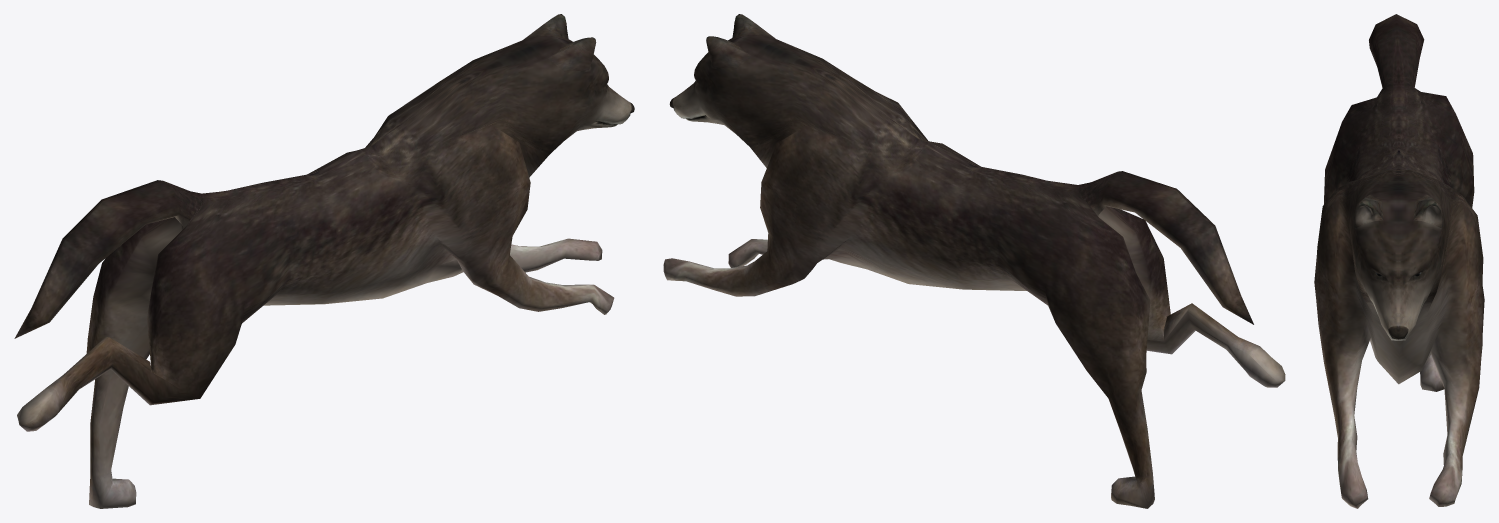
The model's file is wolf_running_000014.obj.
3 views of the same model, side by side, from view 1: azimuth 30°, elevation 25°; view 2: azimuth 150°, elevation 25°; view 3: azimuth 270°, elevation 25° (orthographic). The views are drawn at different scales.
Visible parts, largest first — view 1: Wolf1_Material__wolf_col_tga_0; view 2: Wolf1_Material__wolf_col_tga_0; view 3: Wolf1_Material__wolf_col_tga_0.
Part boxes in pixels (x1,y1,x2,y2): Wolf1_Material__wolf_col_tga_0: [14, 14, 634, 508]; Wolf1_Material__wolf_col_tga_0: [663, 14, 1285, 508]; Wolf1_Material__wolf_col_tga_0: [1314, 14, 1484, 508].
Bounding box in the file's own units: 0.9722 × 0.5614 × 0.2073.
Materials: 2 (2 with a texture image).
